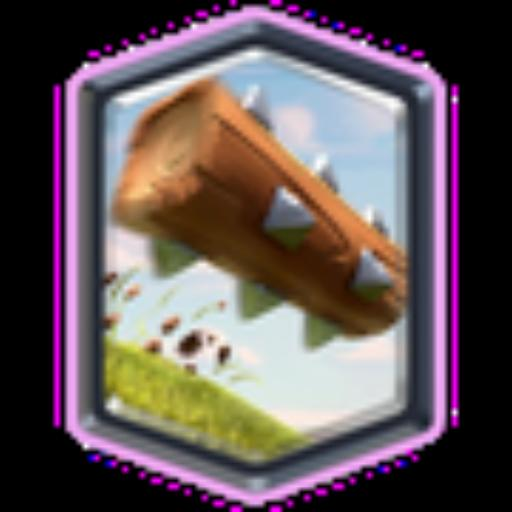the-log: (89, 46, 413, 460)
